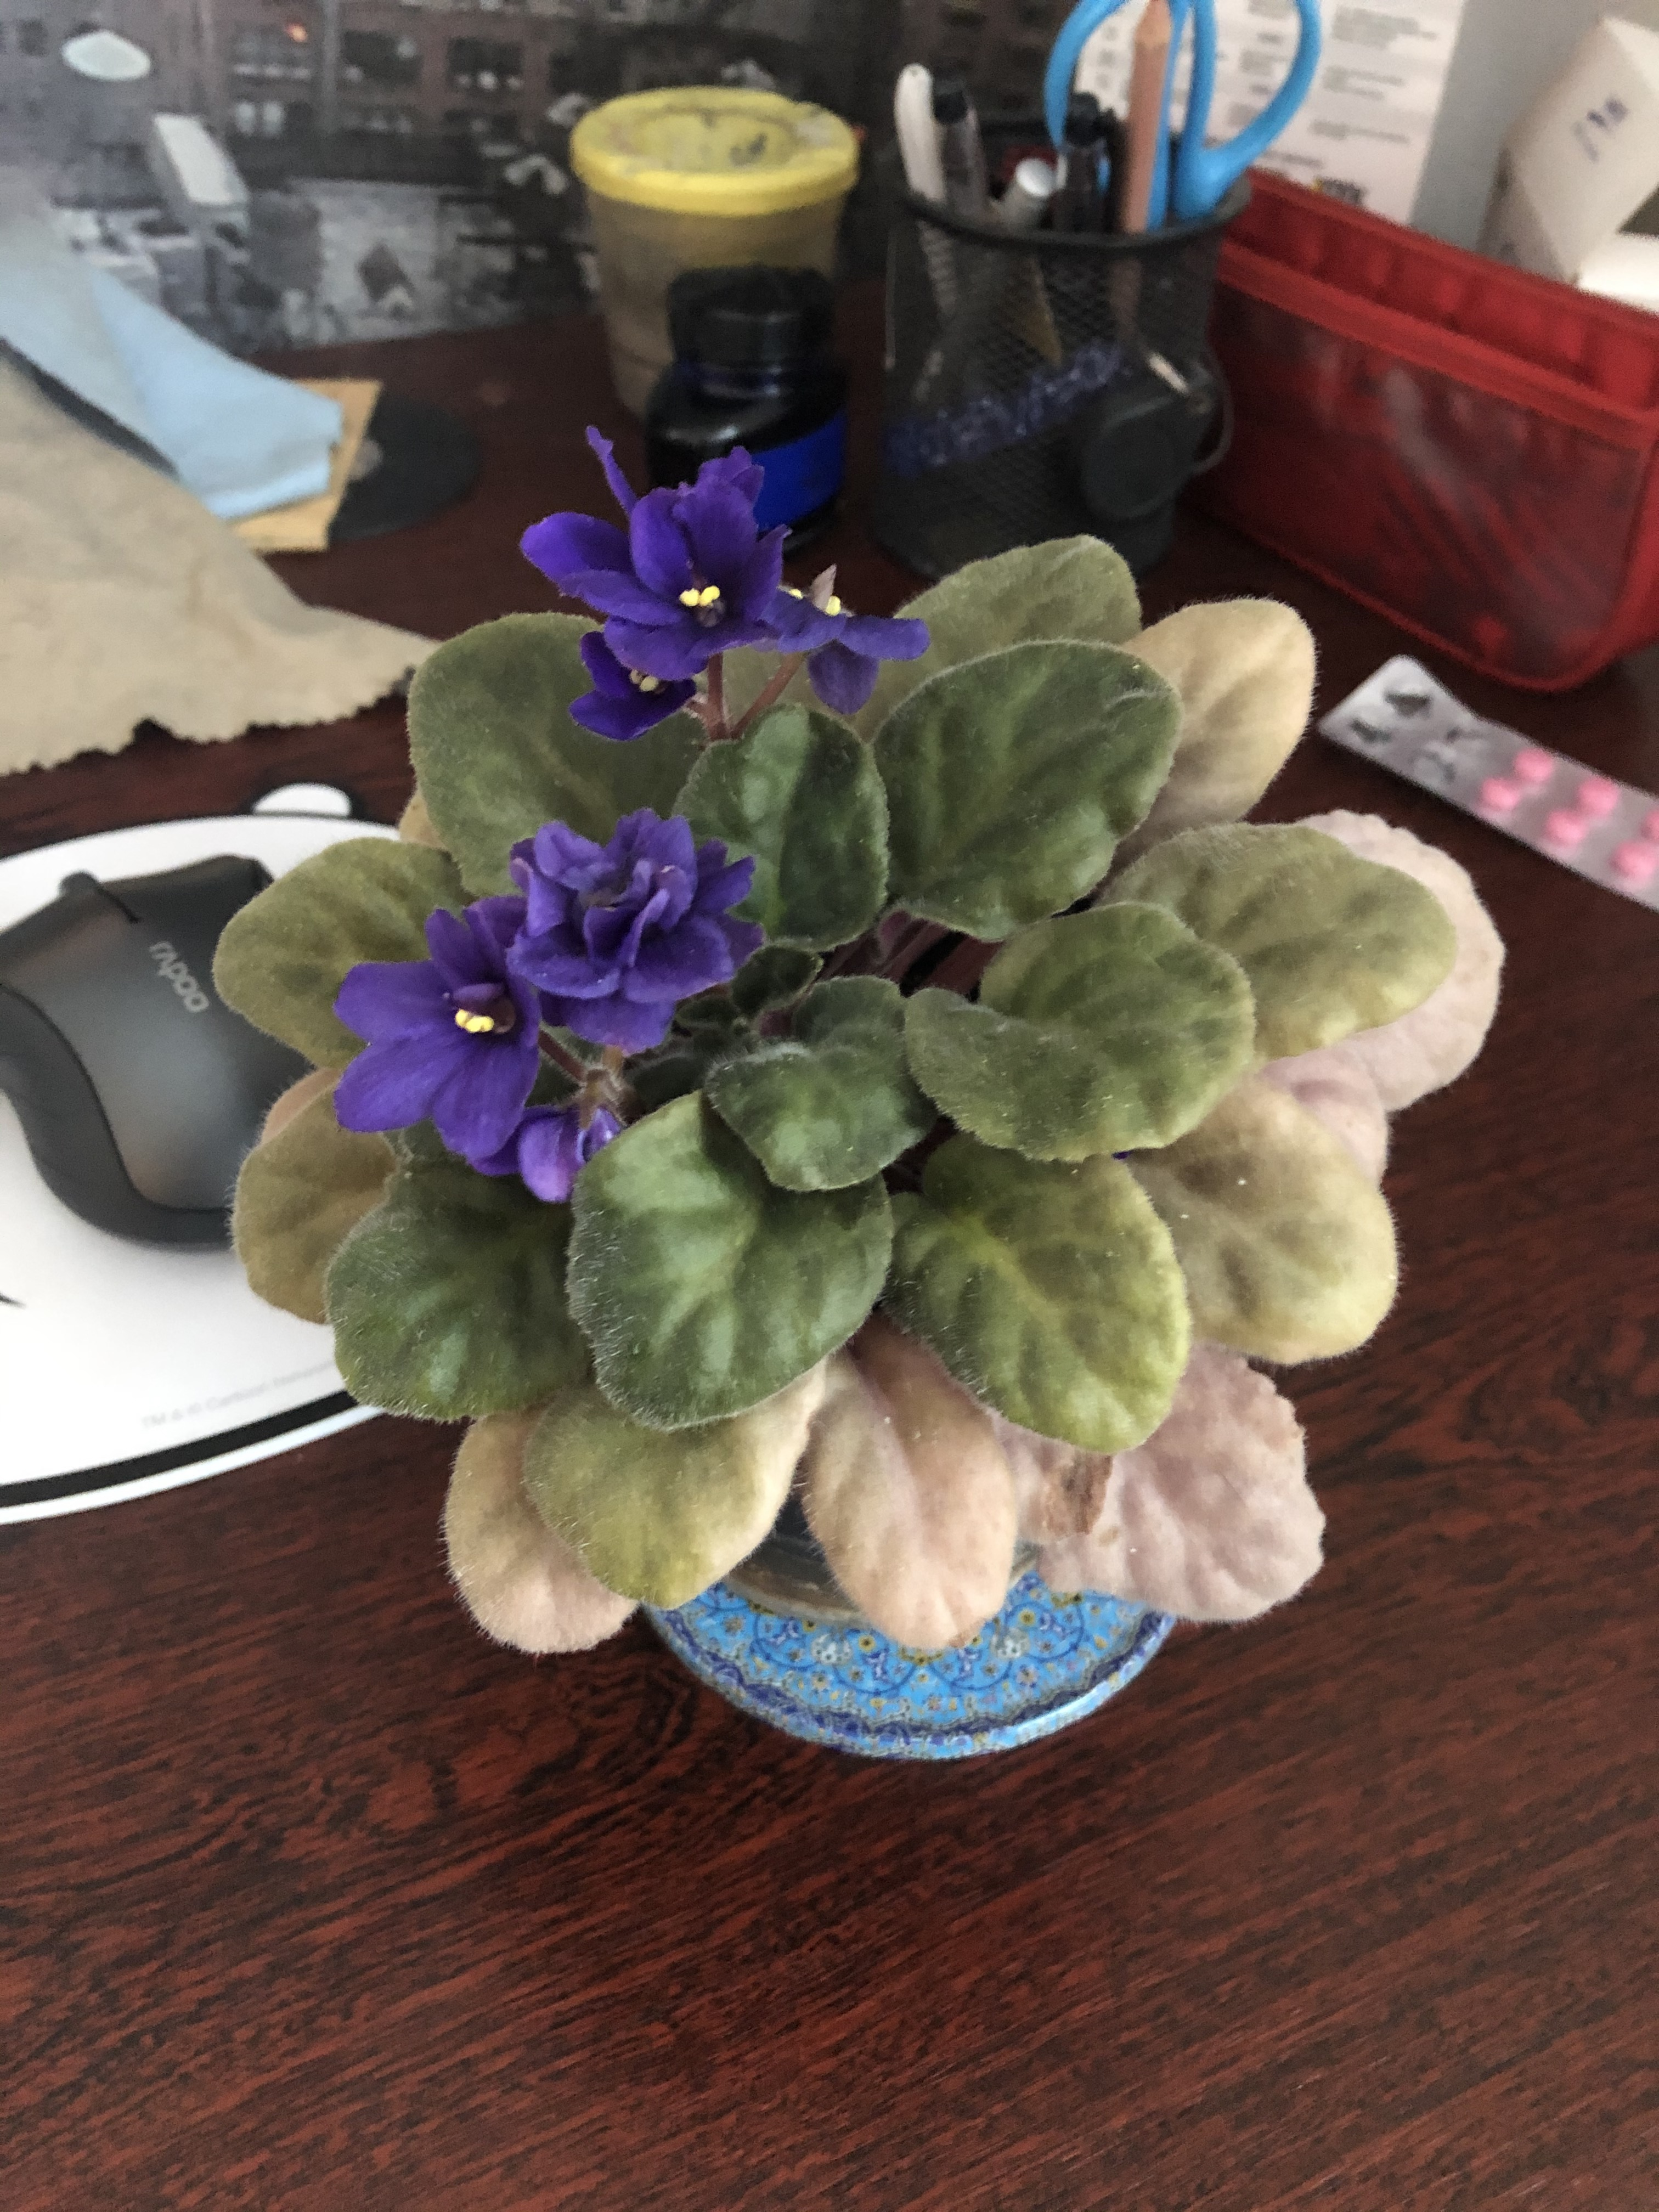ignore: (160, 404, 1554, 1700)
